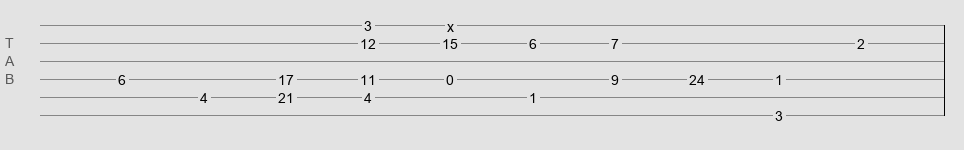0: (446, 72, 454, 82)
1: (529, 90, 537, 100), (775, 72, 783, 82)
11: (360, 72, 376, 82)
12: (360, 36, 376, 46)
15: (442, 36, 458, 46)
17: (278, 72, 294, 82)
2: (857, 36, 865, 46)
21: (278, 90, 294, 100)
24: (689, 72, 705, 82)
3: (364, 18, 372, 28), (775, 108, 783, 118)
4: (200, 90, 208, 100), (364, 90, 372, 100)
6: (118, 72, 126, 82), (529, 36, 537, 46)
7: (611, 36, 619, 46)
9: (611, 72, 619, 82)
x: (447, 19, 454, 27)
